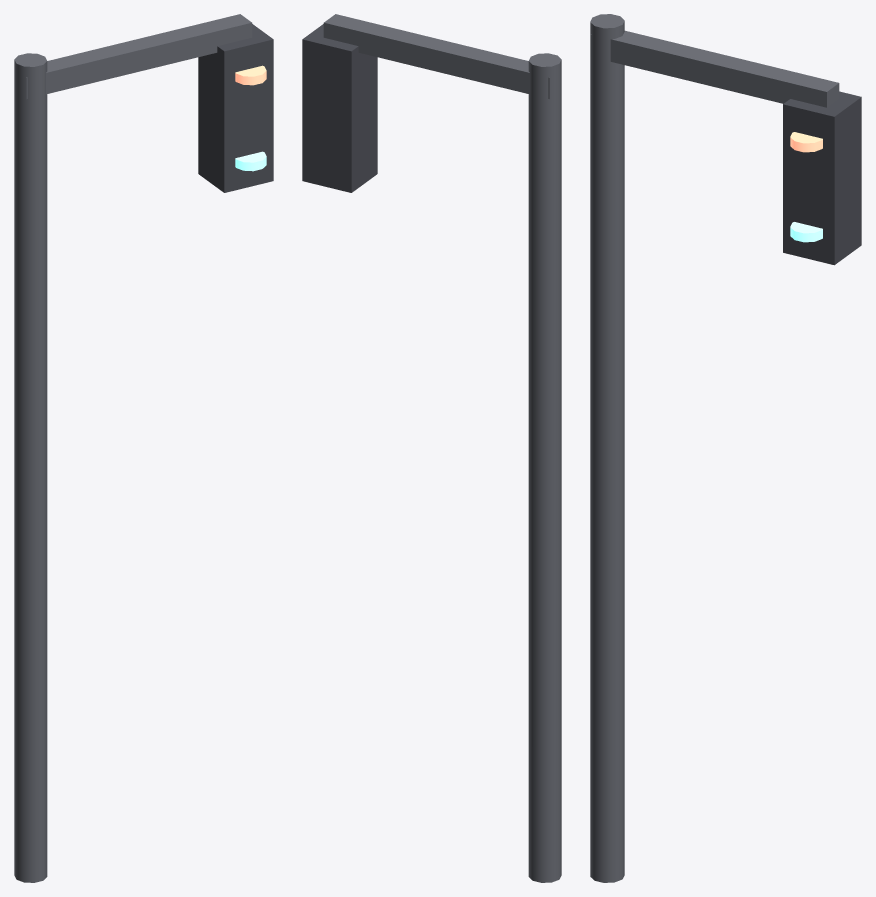
The model's file is prop_traffic_light.glb.
3 renders of one model, left to right at view 1: azimuth 30°, elevation 25°; view 2: azimuth 150°, elevation 25°; view 3: azimuth 330°, elevation 25°, orthographic. The views are drawn at different scales.
Visible parts, largest first — view 1: pole, housing, arm; view 2: pole, housing, arm; view 3: pole, housing, arm, lamp_red, lamp_green.
Boxes of the visible parts, left/top/right/bottom form: pole: left=14, top=53, right=47, bottom=882; housing: left=198, top=24, right=273, bottom=192; arm: left=26, top=14, right=252, bottom=98; pole: left=528, top=53, right=561, bottom=882; housing: left=302, top=24, right=377, bottom=192; arm: left=323, top=14, right=549, bottom=98; pole: left=590, top=14, right=624, bottom=882; housing: left=783, top=91, right=861, bottom=265; arm: left=590, top=30, right=839, bottom=107; lamp_red: left=790, top=132, right=822, bottom=152; lamp_green: left=790, top=222, right=822, bottom=242.
Size of the model in its own units: 1.19 by 3.8 by 0.2966.
